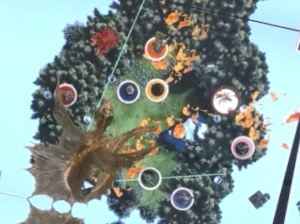blue: (112, 74, 144, 108)
green: (135, 161, 167, 193)
orange: (142, 32, 171, 64)
pink: (225, 129, 263, 164)
red: (47, 77, 80, 111)
violet: (166, 181, 199, 212)
yellow: (141, 73, 175, 104)
